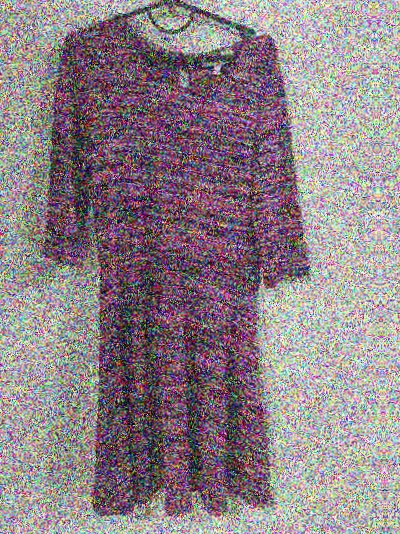Dress: (13, 3, 334, 532)
